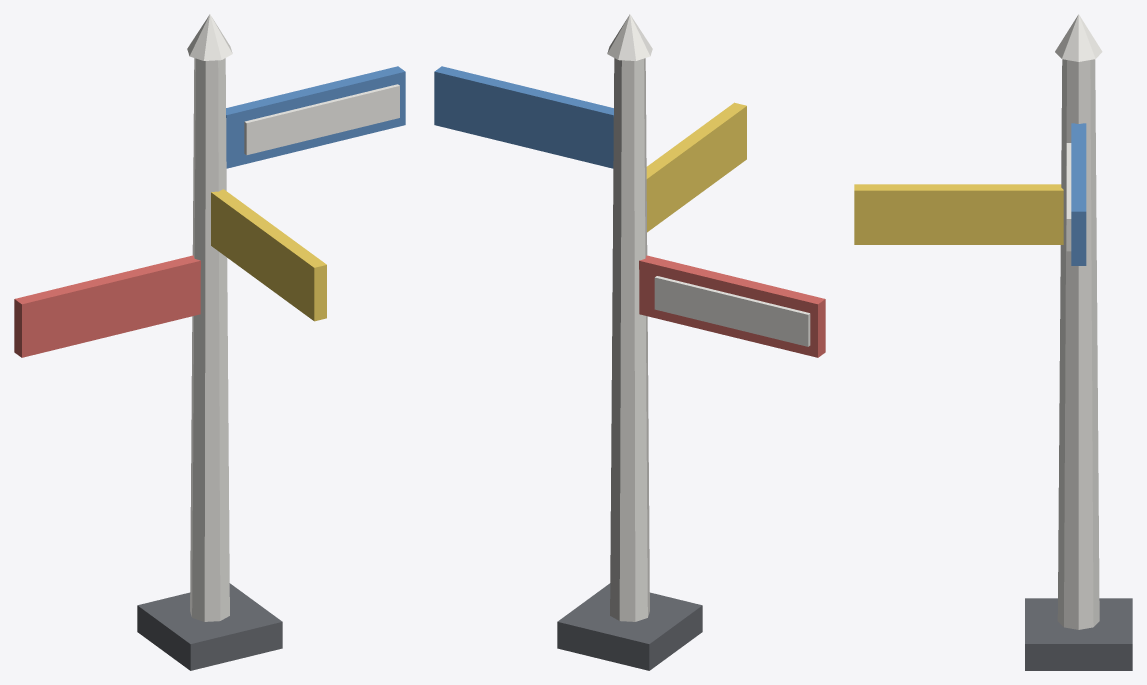
File: hot-air-balloon-festival-blank-finger-post-5c68f83a.glb
3 renders of one model, left to right at view 1: azimuth 30°, elevation 25°; view 2: azimuth 150°, elevation 25°; view 3: azimuth 270°, elevation 25°, orthographic.
Parts seen in each view (by area): view 1: blank-finger-post-canvasB, blank-finger-post-canvasA, blank-finger-post-canvasD, blank-finger-post-charcoal, blank-finger-post-canvasC; view 2: blank-finger-post-canvasB, blank-finger-post-canvasC, blank-finger-post-charcoal, blank-finger-post-canvasD, blank-finger-post-canvasA; view 3: blank-finger-post-canvasB, blank-finger-post-canvasD, blank-finger-post-charcoal, blank-finger-post-canvasC.
Boxes of the visible parts, box(x1,y1,x2,y2) form: blank-finger-post-canvasB: box(187, 14, 399, 621); blank-finger-post-canvasA: box(14, 255, 200, 357); blank-finger-post-canvasD: box(211, 189, 326, 321); blank-finger-post-charcoal: box(137, 583, 282, 670); blank-finger-post-canvasC: box(226, 66, 405, 168); blank-finger-post-canvasB: box(607, 14, 810, 621); blank-finger-post-canvasC: box(434, 66, 613, 168); blank-finger-post-charcoal: box(557, 583, 702, 670); blank-finger-post-canvasD: box(646, 102, 746, 232); blank-finger-post-canvasA: box(639, 255, 825, 357); blank-finger-post-canvasB: box(1055, 14, 1102, 629); blank-finger-post-canvasD: box(854, 184, 1063, 244); blank-finger-post-charcoal: box(1025, 598, 1132, 670); blank-finger-post-canvasC: box(1071, 123, 1086, 265).
Size of the model in its own units: 1.5 by 2.34 by 0.93.
